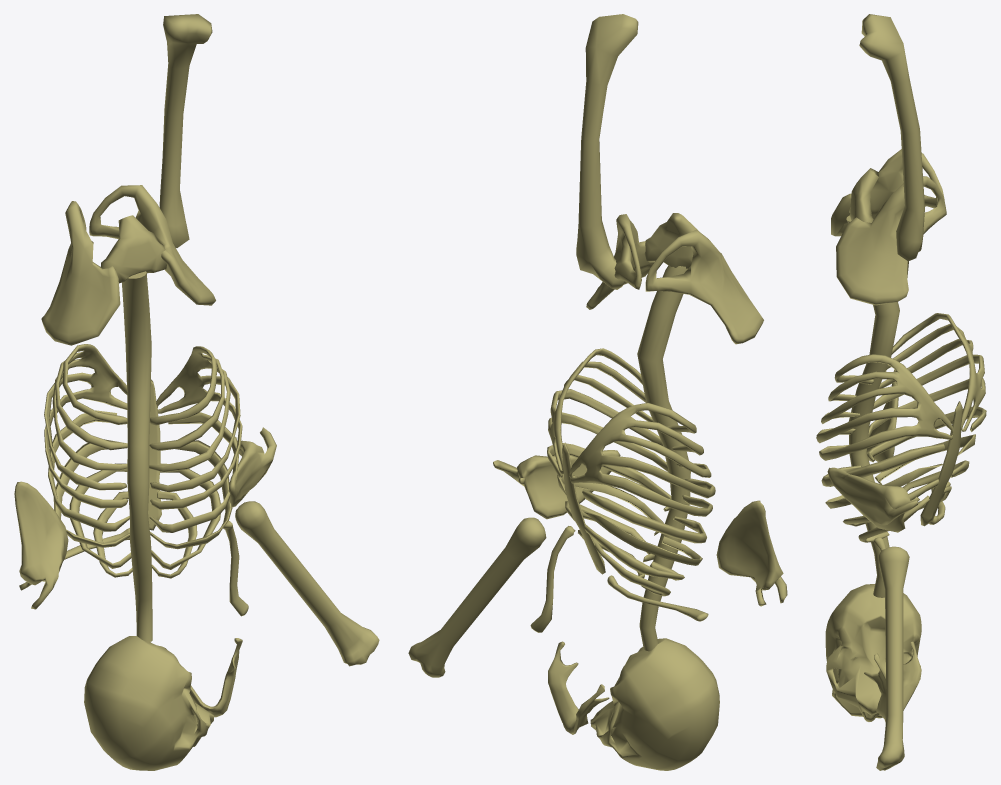
File: calavera1.fbx
3 renders of one model, left to right at view 1: azimuth 30°, elevation 25°; view 2: azimuth 150°, elevation 25°; view 3: azimuth 270°, elevation 25°, orthographic. The views are drawn at different scales.
Visible parts, largest first — view 1: calavera2; view 2: calavera2; view 3: calavera2.
Part boxes in pixels (bbox=[...]): calavera2: bbox=[14, 14, 379, 770]; calavera2: bbox=[408, 14, 787, 770]; calavera2: bbox=[816, 14, 986, 770].
Bounding box in the file's own units: 37.47 × 72.9 × 15.83.
